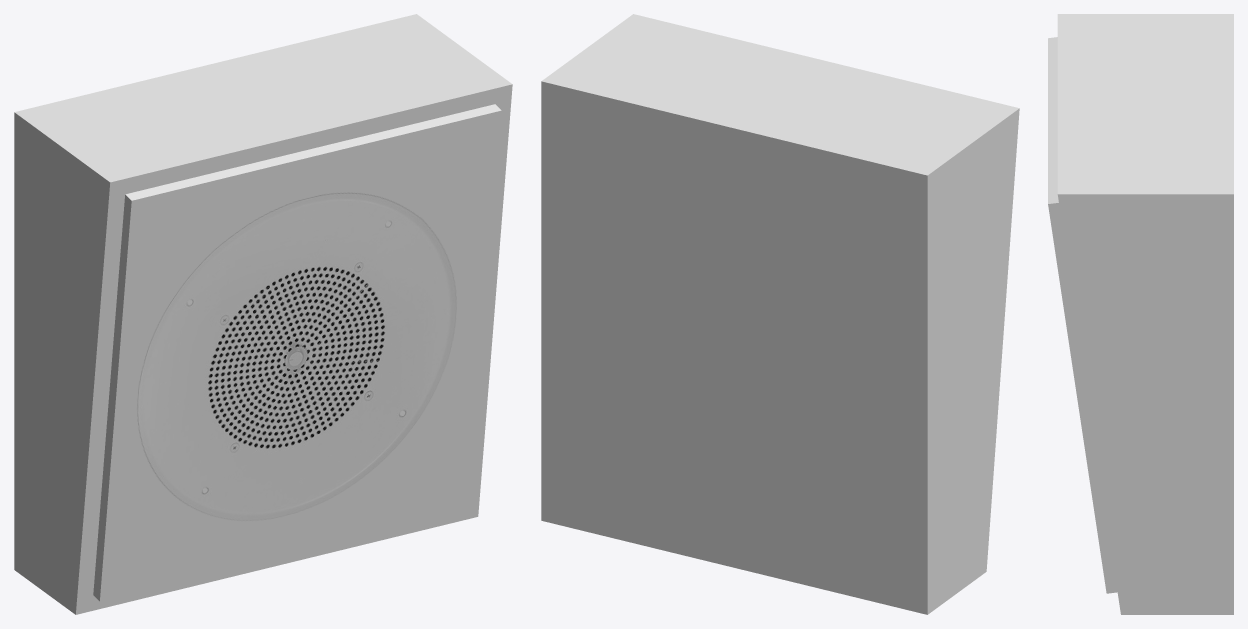
Rendered from Speaker.FBX.
3 views of the same model, side by side, from view 1: azimuth 30°, elevation 25°; view 2: azimuth 150°, elevation 25°; view 3: azimuth 270°, elevation 25° (orthographic). The views are drawn at different scales.
Parts seen in each view (by area): view 1: speaker; view 2: speaker; view 3: speaker.
Part boxes in pixels (bbox=[...]): speaker: bbox=[14, 14, 512, 614]; speaker: bbox=[541, 14, 1019, 614]; speaker: bbox=[1048, 14, 1233, 614].
Bounding box in the file's own units: 8.01 × 8.7 × 3.49.
Materials: 1 (1 with a texture image).
